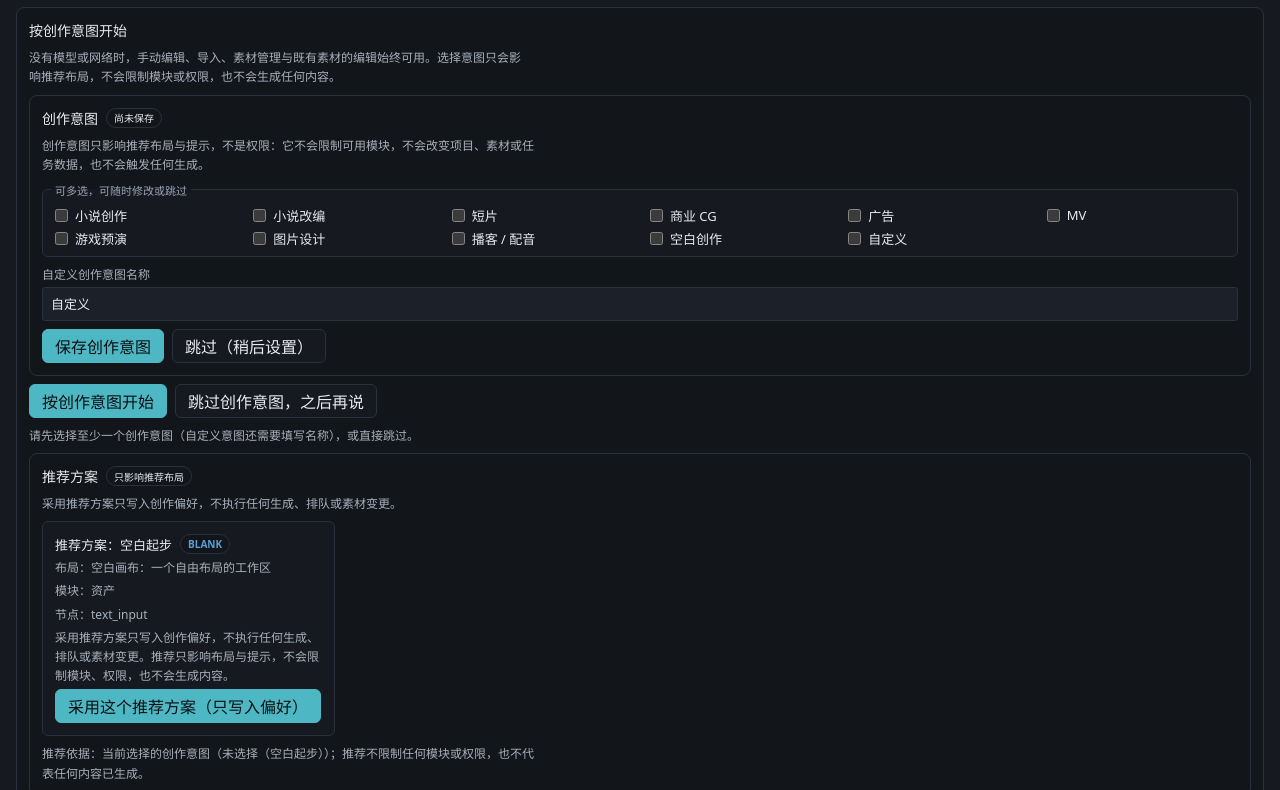
Test case: studio project entry panel › can skip the creative intent without writing anything
The width and height of the screenshot is (1280, 790).
(page scrolled)
Click the button "跳过创作意图，之后再说" at (276, 401), box 175,384 -> 377,418
(page scrolled)
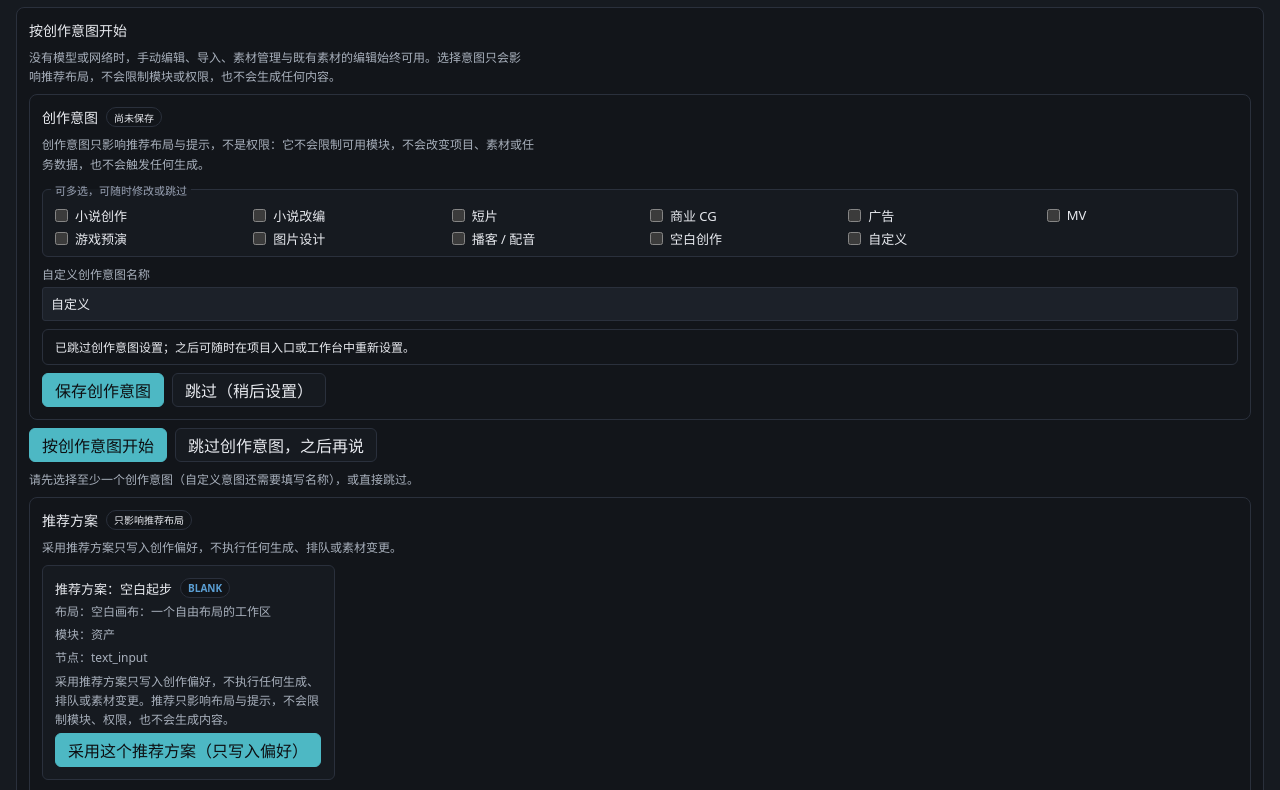
Now the text "已跳过创作意图设置；之后可随时在项目入口或工作台中重新设置。" is shown, box 42,329 -> 1238,365
